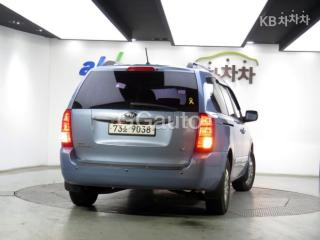0: (136, 125, 141, 134)
3: (118, 124, 123, 133), (141, 125, 146, 134)
7: (112, 124, 118, 133)
8: (146, 126, 151, 133)
9: (131, 125, 136, 133)
plate: (105, 120, 159, 139)
소: (123, 125, 127, 133)
